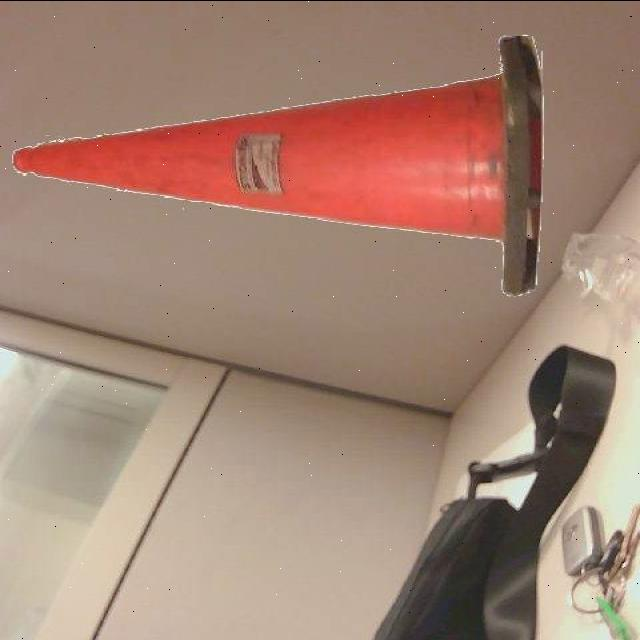traffic cone: (4, 27, 558, 303)
